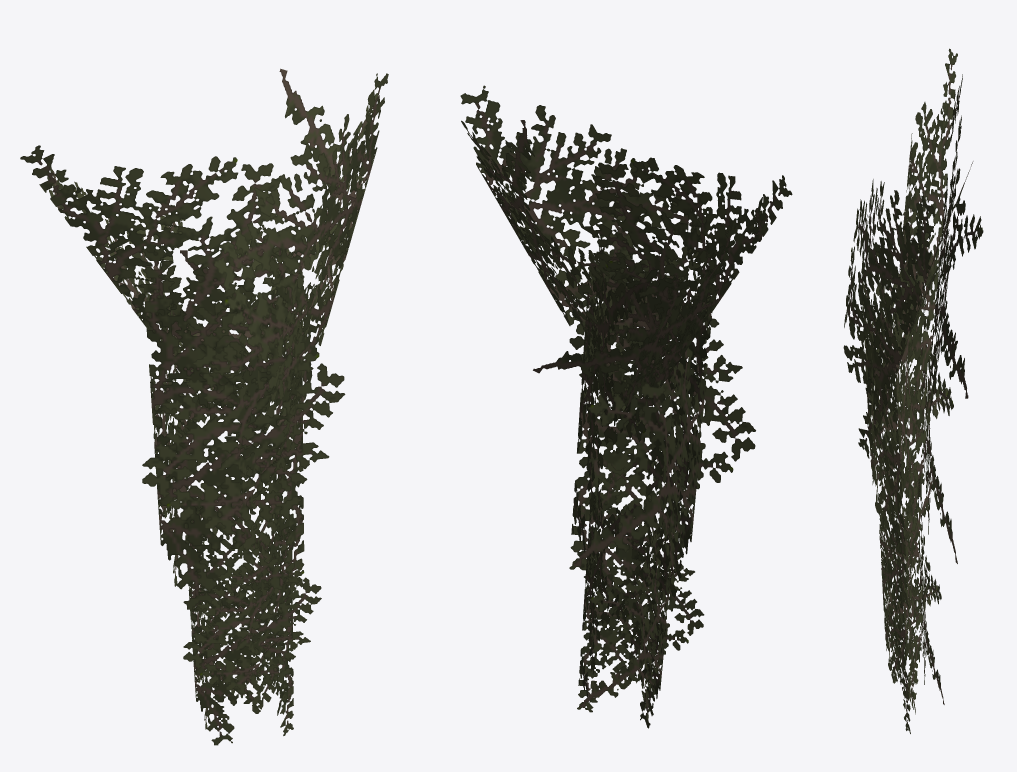
The model's file is HangingGreen.fbx.
The picture shows the model from 3 angles, left to right: view 1: azimuth 30°, elevation 25°; view 2: azimuth 150°, elevation 25°; view 3: azimuth 270°, elevation 25°; orthographic projection. The views are drawn at different scales.
Visible parts, largest first — view 1: derevo1.002; view 2: derevo1.002; view 3: derevo1.002.
Part boxes in pixels (bbox=[...]): derevo1.002: bbox=[20, 68, 388, 745]; derevo1.002: bbox=[460, 85, 792, 728]; derevo1.002: bbox=[843, 48, 983, 733].
Size of the model in its own units: 98.81 by 188 by 43.78.
